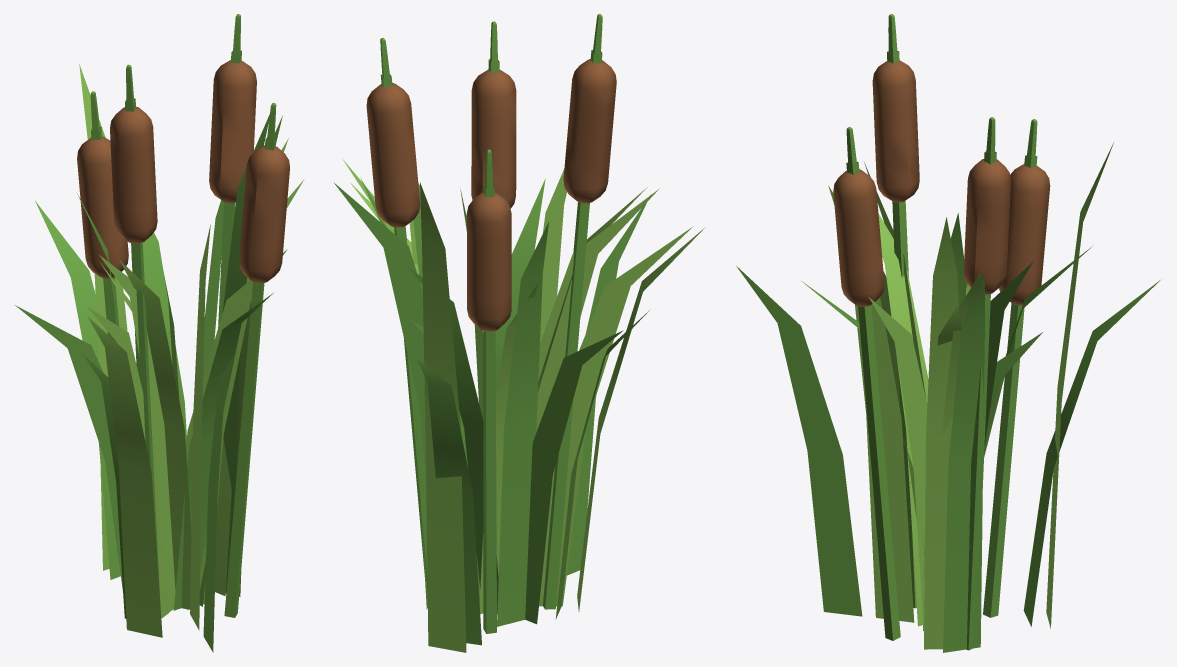
The model's file is reeds_tall.glb.
3 views of the same model, side by side, from view 1: azimuth 30°, elevation 25°; view 2: azimuth 150°, elevation 25°; view 3: azimuth 270°, elevation 25° (orthographic). The views are drawn at different scales.
Visible parts, largest first — view 1: reeds_tall; view 2: reeds_tall; view 3: reeds_tall.
Part boxes in pixels (x1,y1,x2,y2): reeds_tall: [15, 14, 304, 652]; reeds_tall: [334, 14, 705, 652]; reeds_tall: [736, 14, 1160, 652].
Size of the model in its own units: 1.05 by 2.05 by 1.38.
